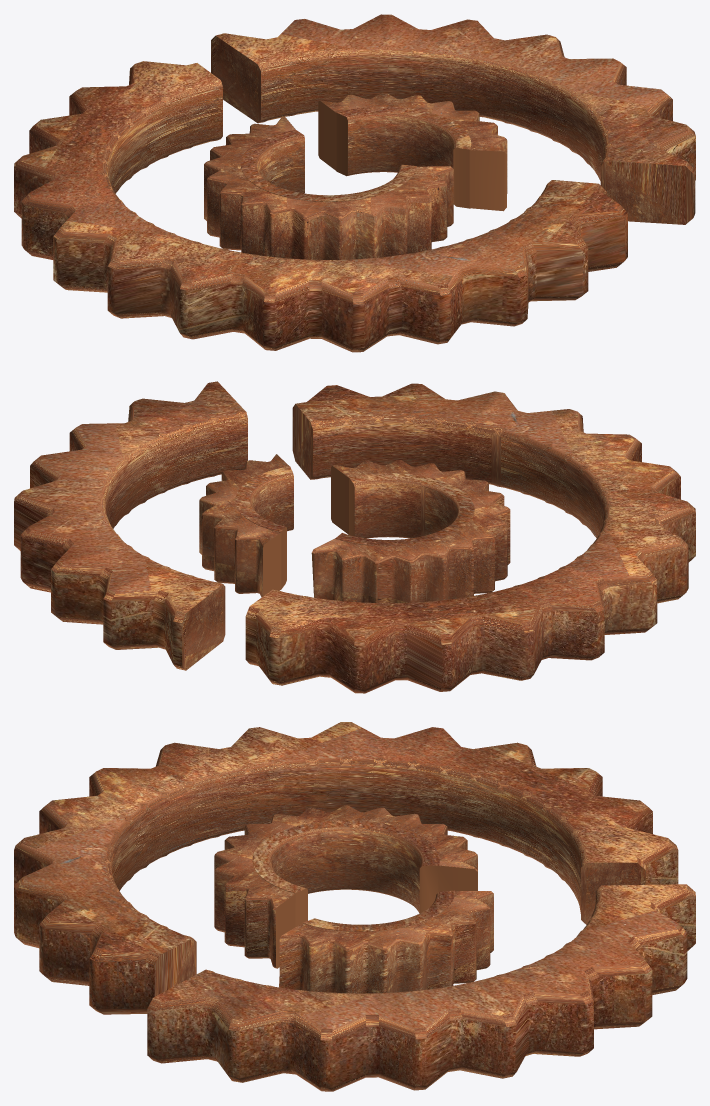
File: 割れた歯車22Ｃ.fbx
3 renders of one model, top to bottom at view 1: azimuth 30°, elevation 25°; view 2: azimuth 150°, elevation 25°; view 3: azimuth 270°, elevation 25°, orthographic. The views are drawn at different scales.
Visible parts, largest first — view 1: obj2; view 2: obj2; view 3: obj2.
Boxes of the visible parts, left/top/right/bottom form: obj2: left=14, top=14, right=695, bottom=352; obj2: left=14, top=381, right=695, bottom=693; obj2: left=14, top=722, right=695, bottom=1091.
Bounding box in the file's own units: 253 × 23.54 × 232.
1 material, 1 textured.
